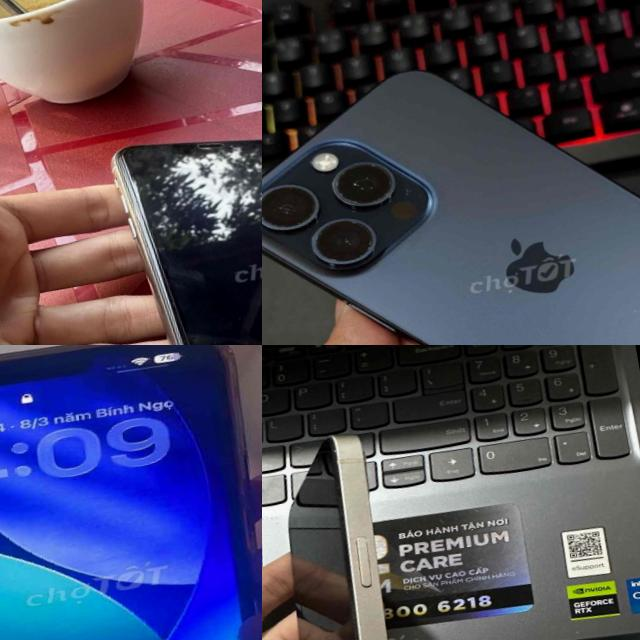gen_12_13: (0, 345, 262, 640), (265, 421, 461, 640)
gen_15: (262, 0, 640, 345)
gen_x_xs: (112, 139, 262, 345)
